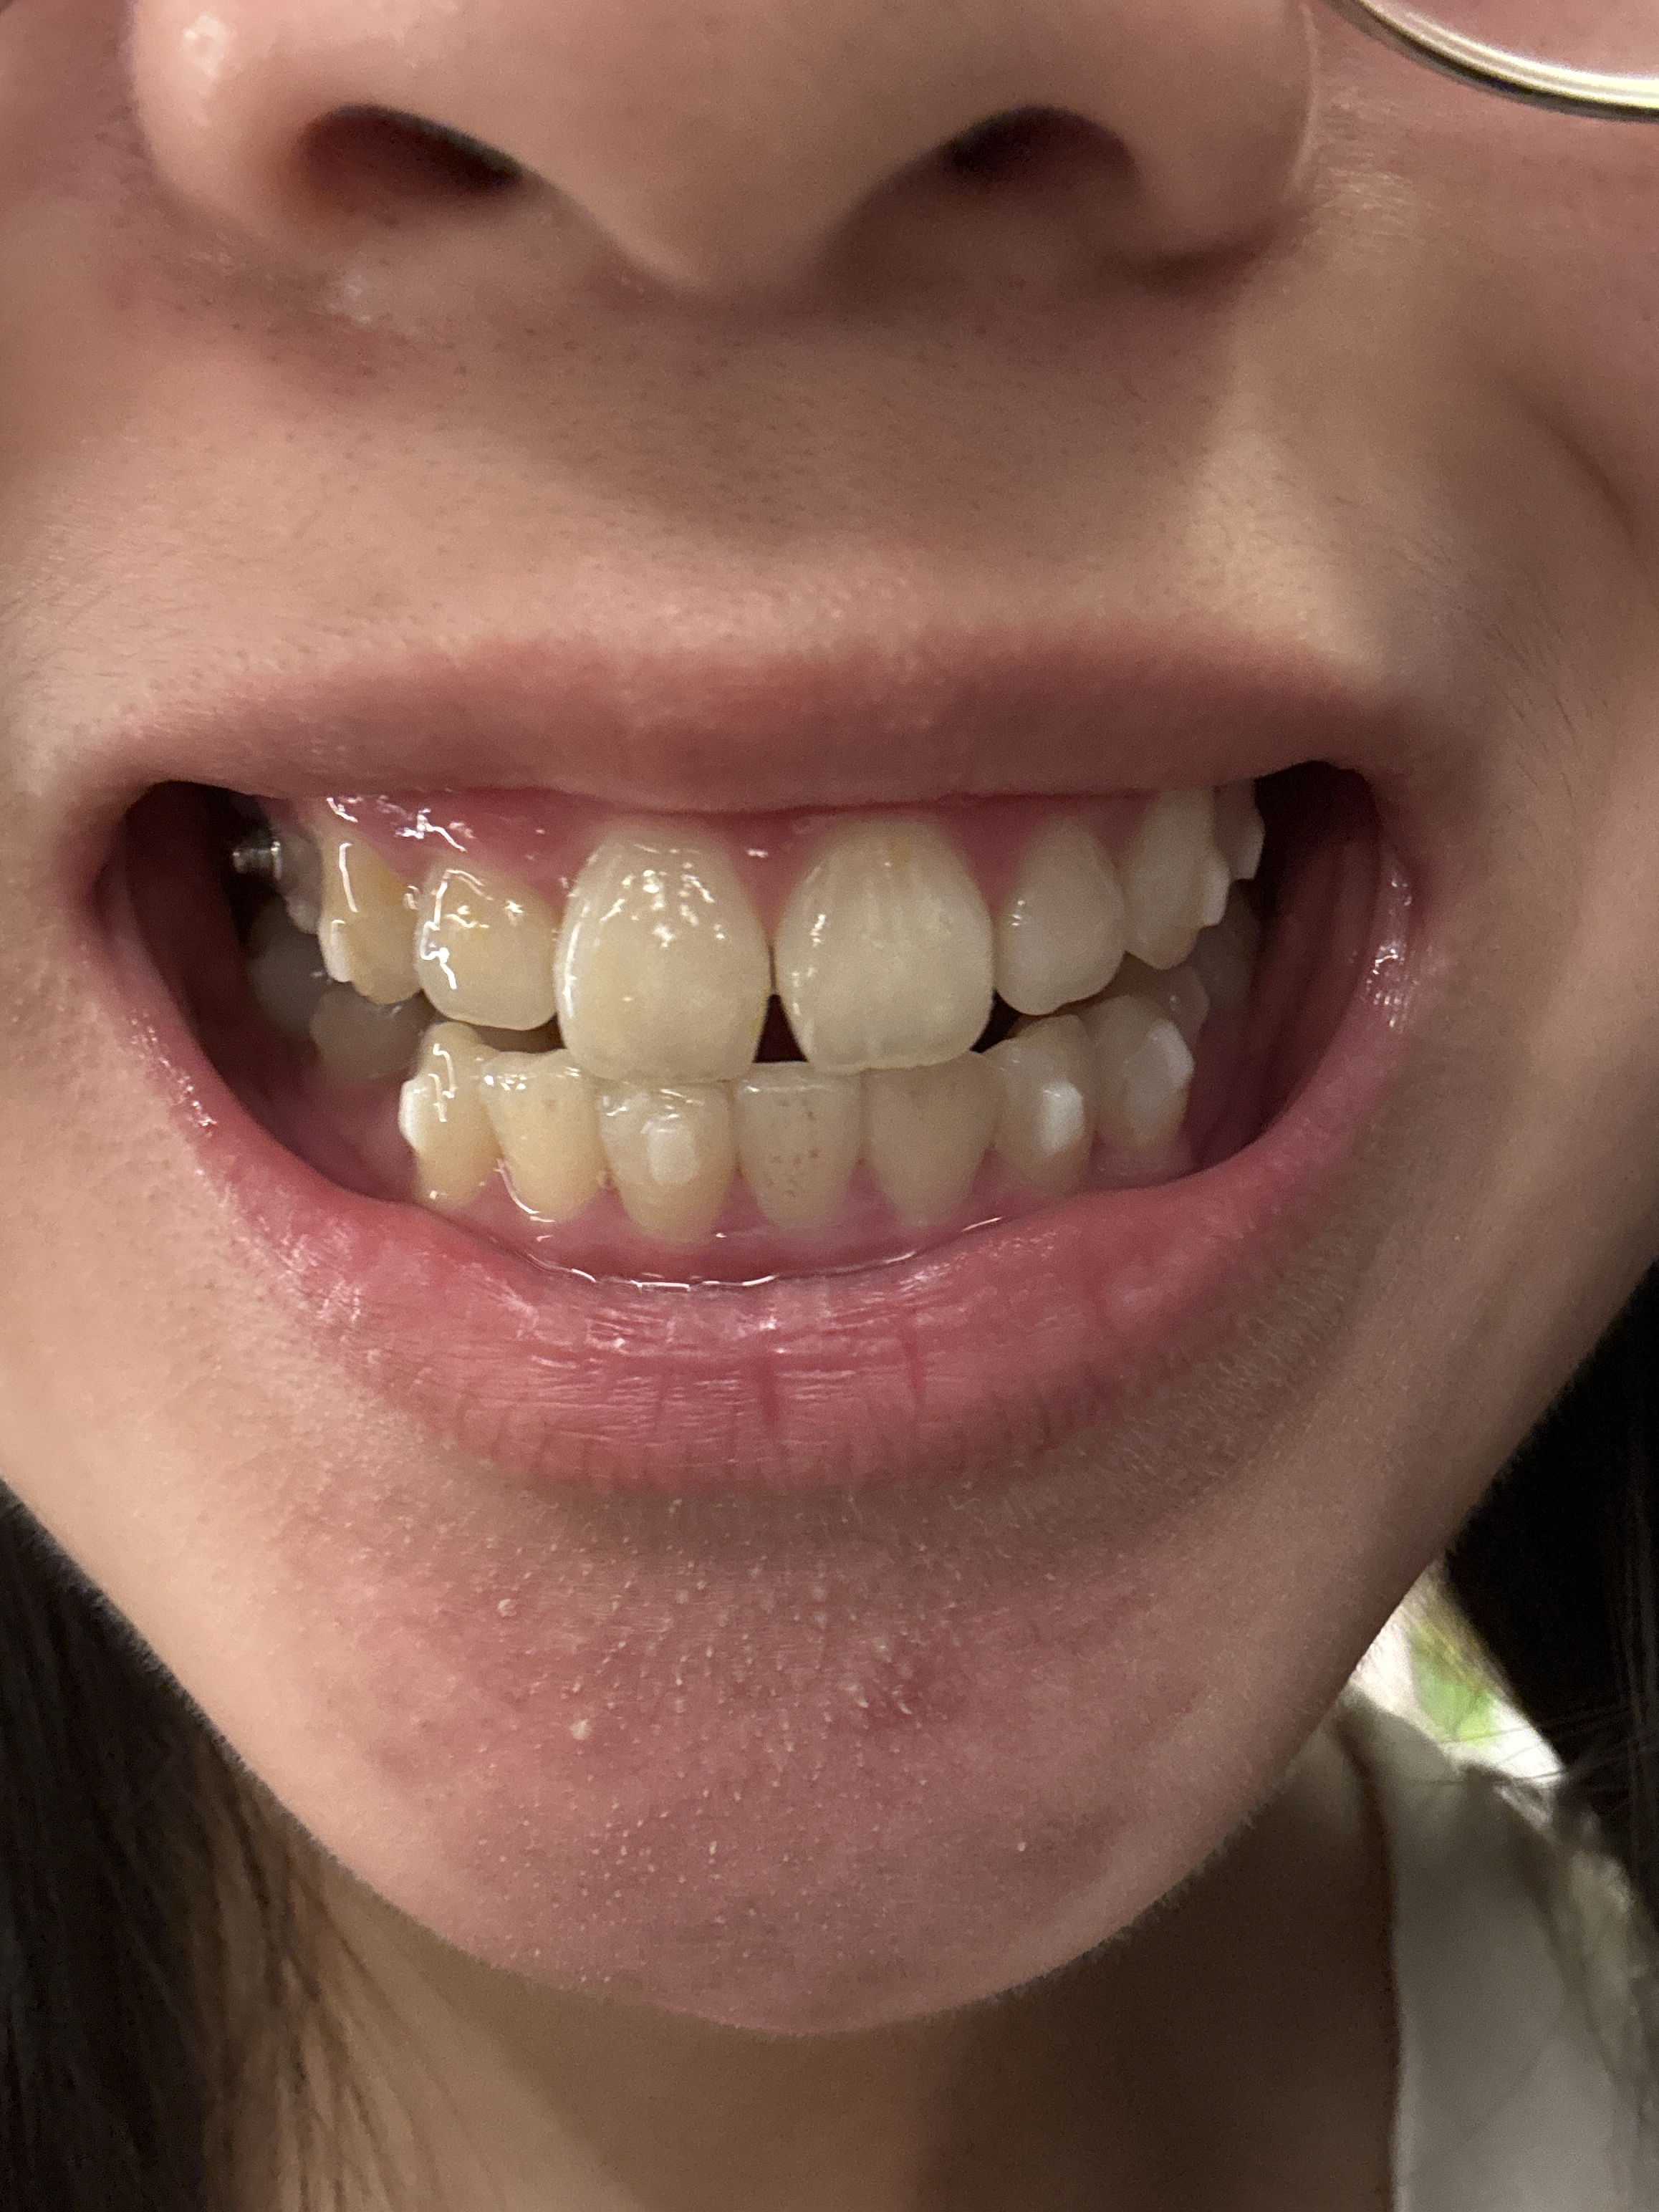teeth: (775, 822, 993, 1069), (559, 827, 769, 1080), (999, 822, 1131, 1010), (418, 853, 556, 1028), (873, 1050, 1007, 1221), (599, 1087, 739, 1242), (732, 1073, 863, 1228), (308, 824, 418, 1000), (484, 1050, 598, 1214), (1096, 995, 1192, 1172), (1129, 792, 1220, 965), (403, 1028, 491, 1202), (1004, 1019, 1094, 1188), (244, 902, 322, 1033), (308, 984, 411, 1075)
